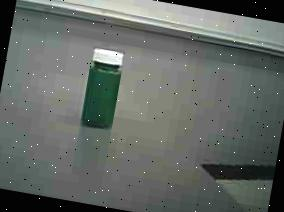Bottle C: (67, 36, 141, 141)
